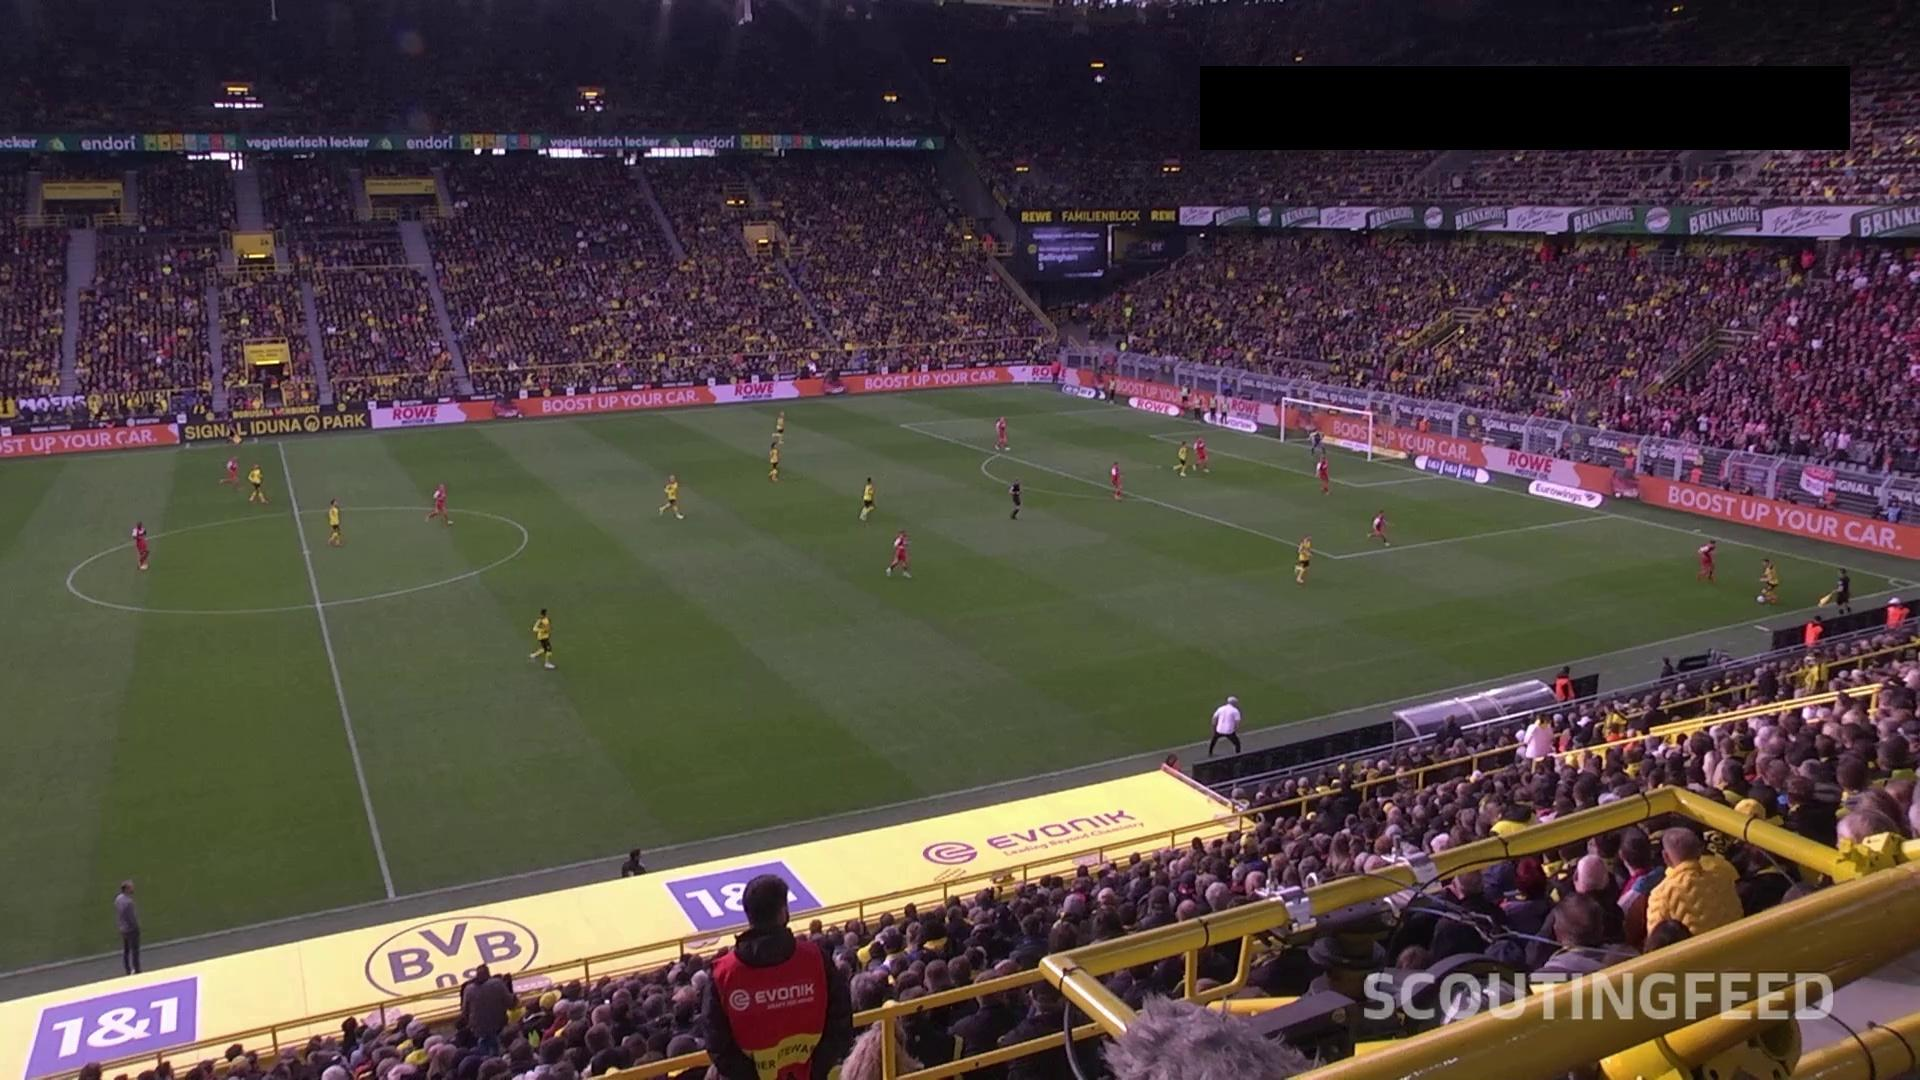Location-of-ball: (1751, 585, 1770, 608)
